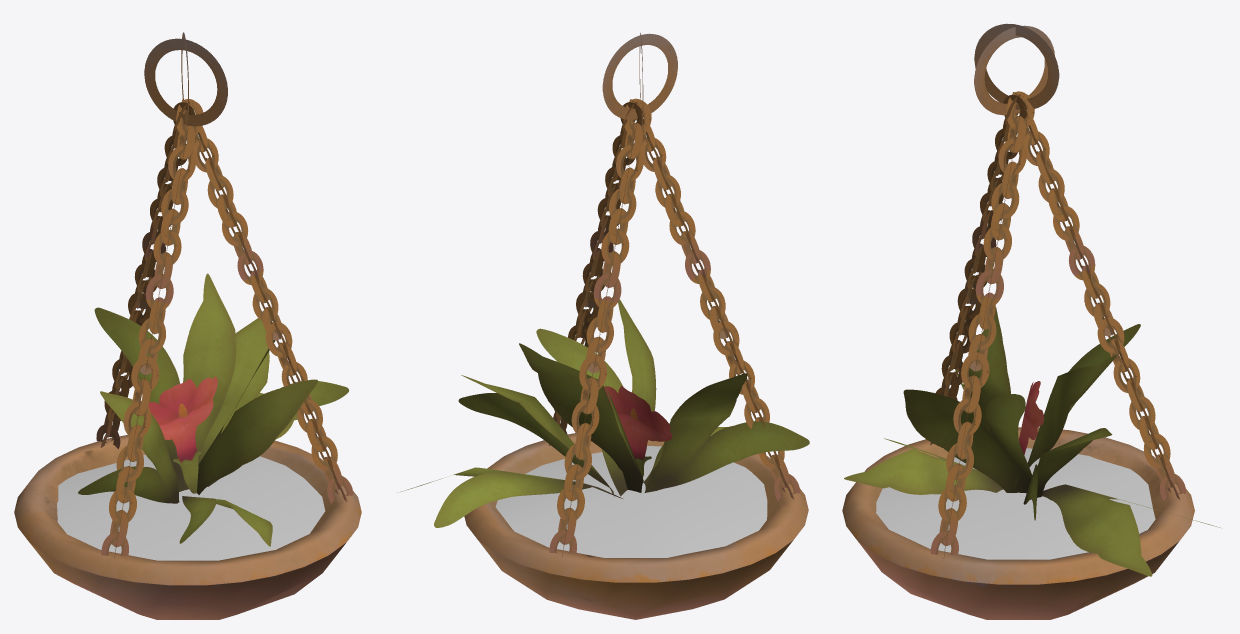
The model's file is SM_Potion_Props_FlowerPot_03_A.fbx.
3 renders of one model, left to right at view 1: azimuth 30°, elevation 25°; view 2: azimuth 150°, elevation 25°; view 3: azimuth 270°, elevation 25°, orthographic.
Visible parts, largest first — view 1: SM_Potion_Props_FlowerPot_03_A_LOD0; view 2: SM_Potion_Props_FlowerPot_03_A_LOD0; view 3: SM_Potion_Props_FlowerPot_03_A_LOD0.
Part boxes in pixels (x1=…): SM_Potion_Props_FlowerPot_03_A_LOD0: x1=14, y1=32, x2=361, y2=619; SM_Potion_Props_FlowerPot_03_A_LOD0: x1=401, y1=33, x2=809, y2=619; SM_Potion_Props_FlowerPot_03_A_LOD0: x1=842, y1=23, x2=1220, y2=619.
Size of what is drawn, in the model's own units: 38.45 by 63.75 by 38.4.
